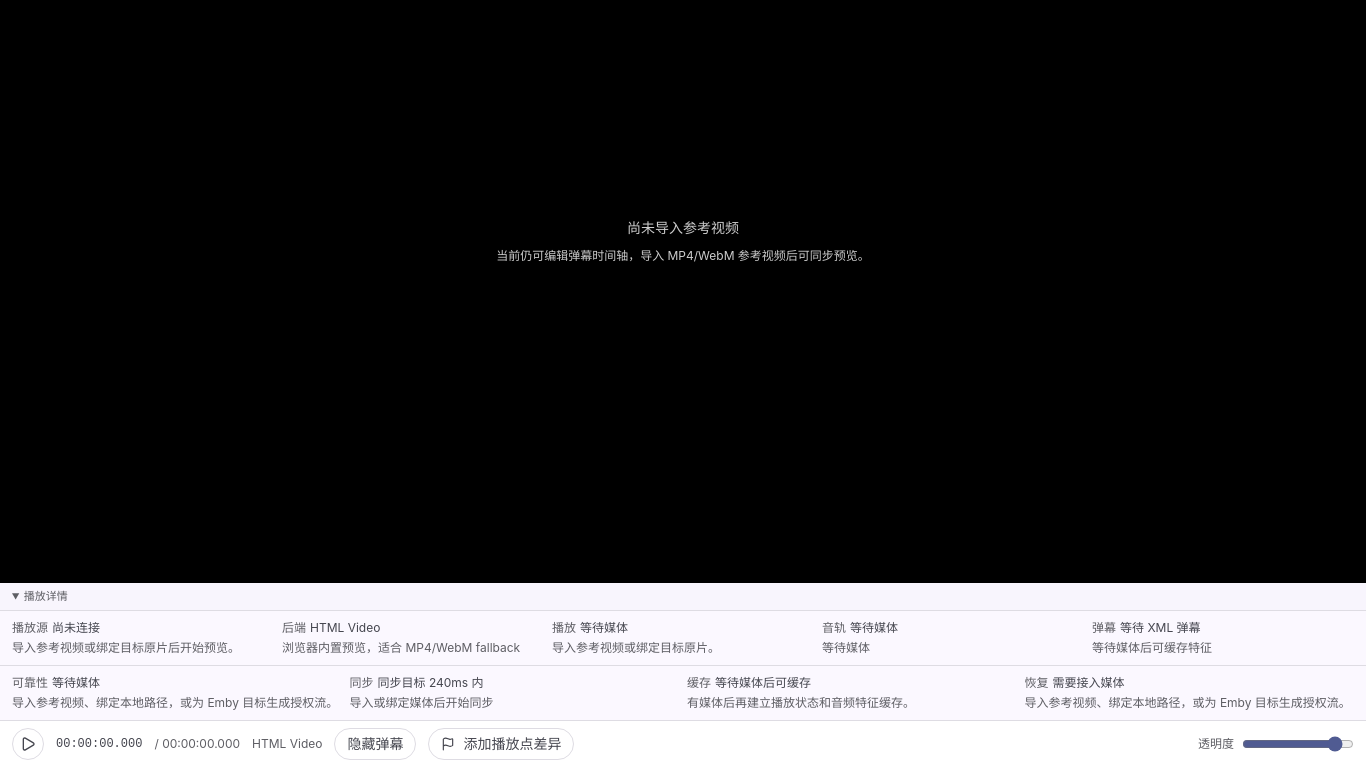
Test case: 预览面板 › 可以切换弹幕显示状态
(page scrolled)
Click the button "隐藏弹幕" at coordinates (375, 744), box [334, 728, 416, 760]
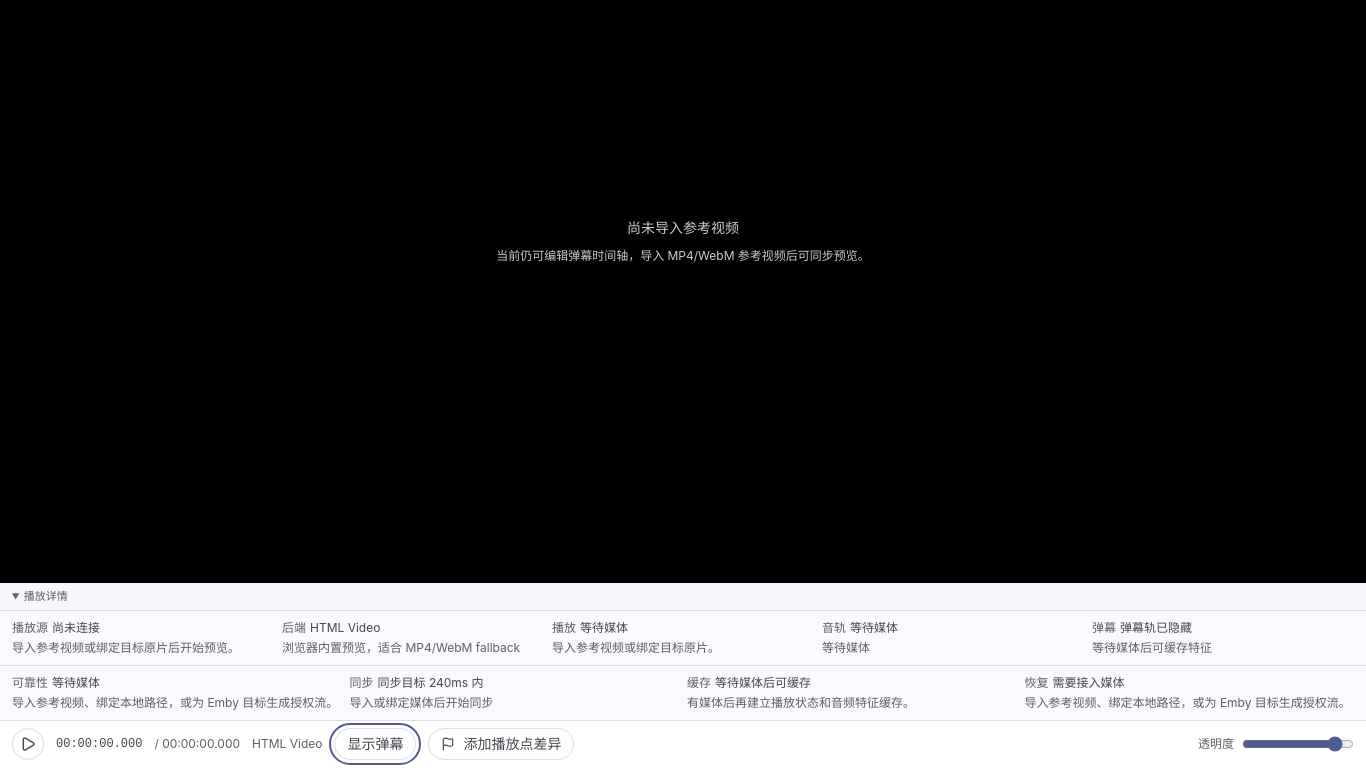
Now the button "显示弹幕" is shown, box [334, 728, 416, 760]
